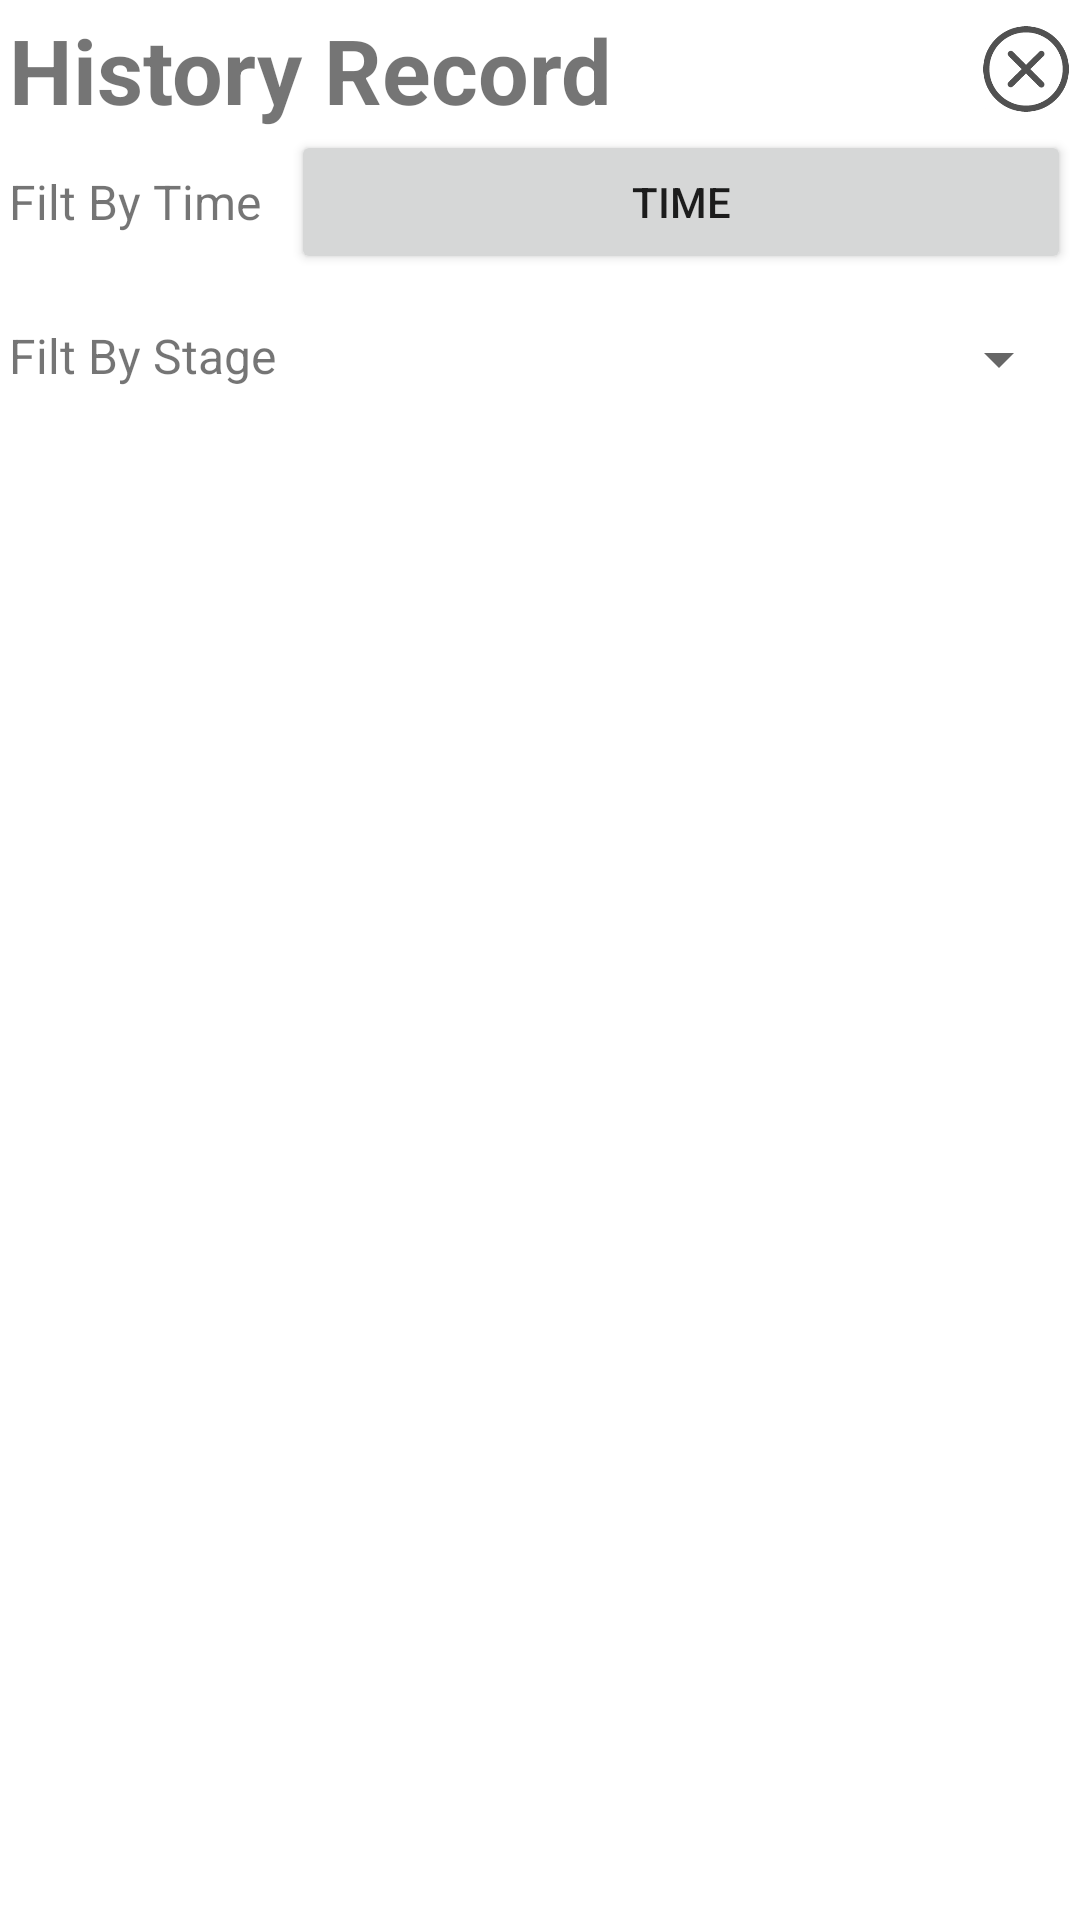

Screen size 1080x1920. Icon name, then its center in pixels as point (x, y):
close: point (1026, 69)
